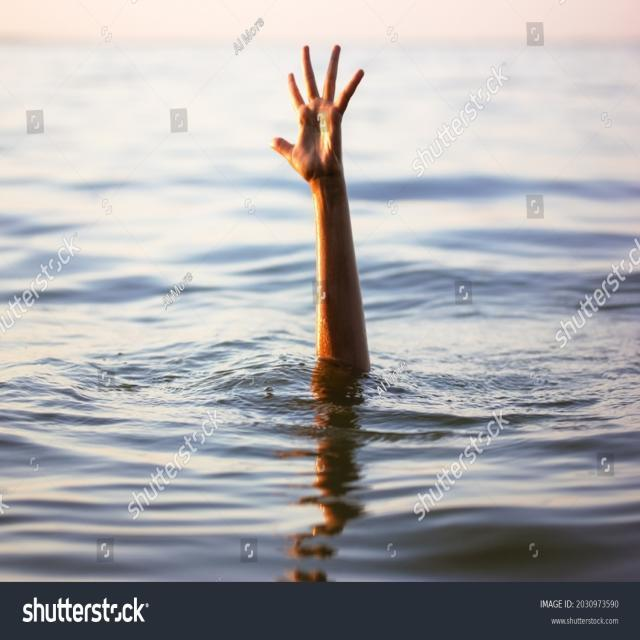Out of Water: (224, 41, 450, 489)
